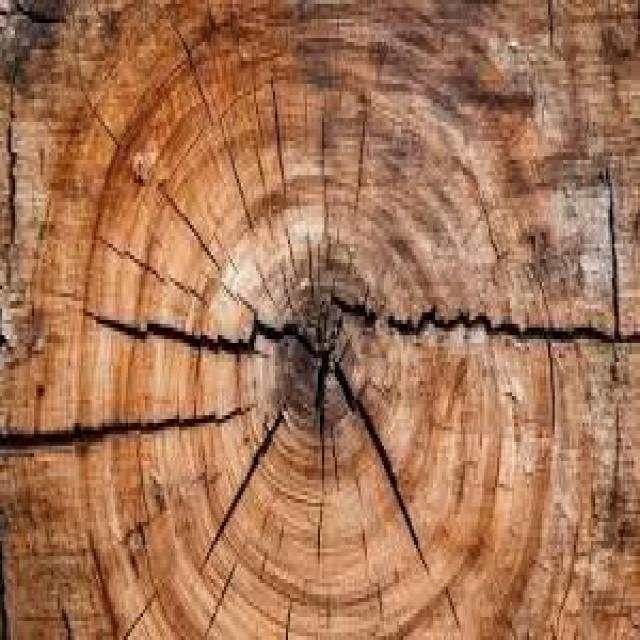have-wooden-eyes: (276, 234, 376, 436)
